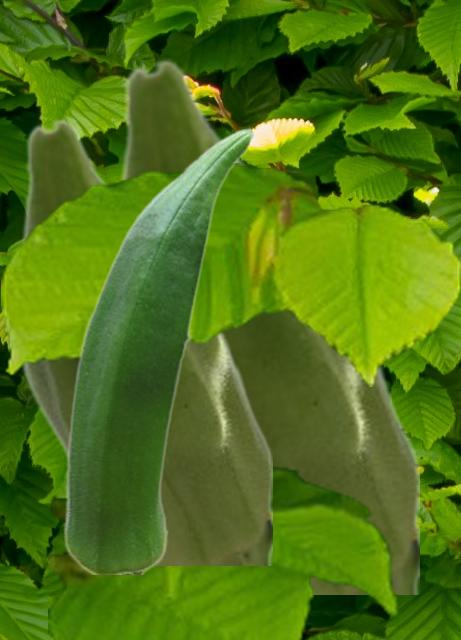okra: (116, 58, 418, 593), (17, 118, 271, 564), (62, 127, 254, 573)
